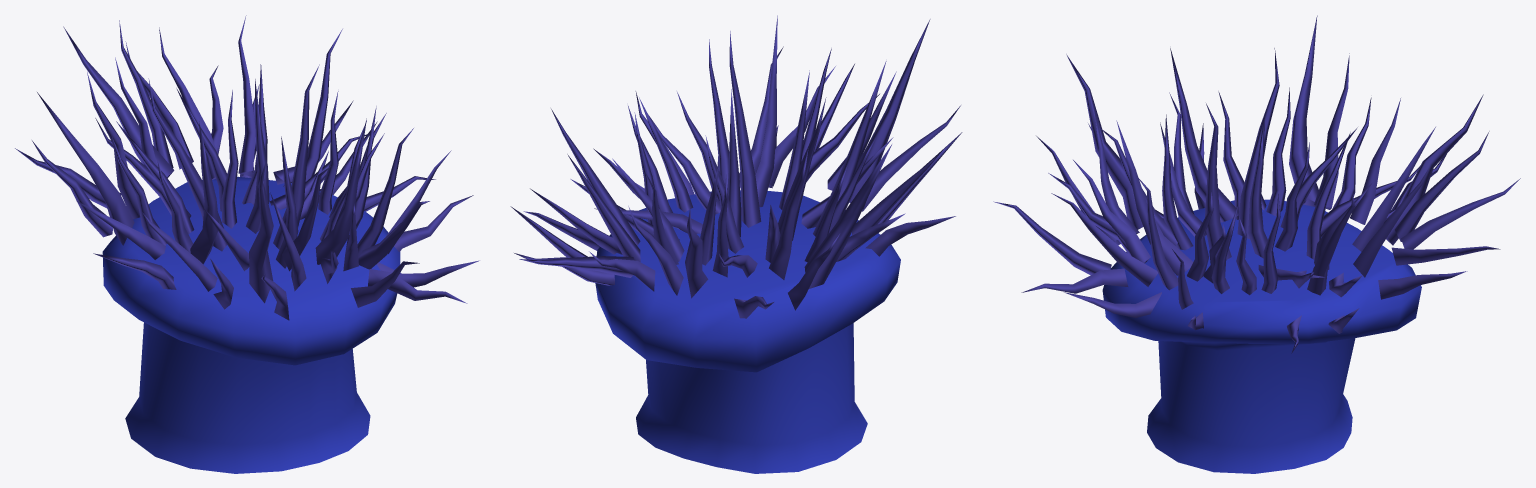
The model's file is coralsTentacles.fbx.
The picture shows the model from 3 angles, left to right: view 1: azimuth 30°, elevation 25°; view 2: azimuth 150°, elevation 25°; view 3: azimuth 270°, elevation 25°; orthographic projection. The views are drawn at different scales.
Parts seen in each view (by area): view 1: CoralTentacles; view 2: CoralTentacles; view 3: CoralTentacles.
Boxes of the visible parts, box(x1,y1,x2,y2) form: CoralTentacles: box(15, 15, 479, 473); CoralTentacles: box(510, 15, 962, 473); CoralTentacles: box(993, 15, 1520, 473).
Size of the model in its own units: 85.23 by 76.56 by 106.
